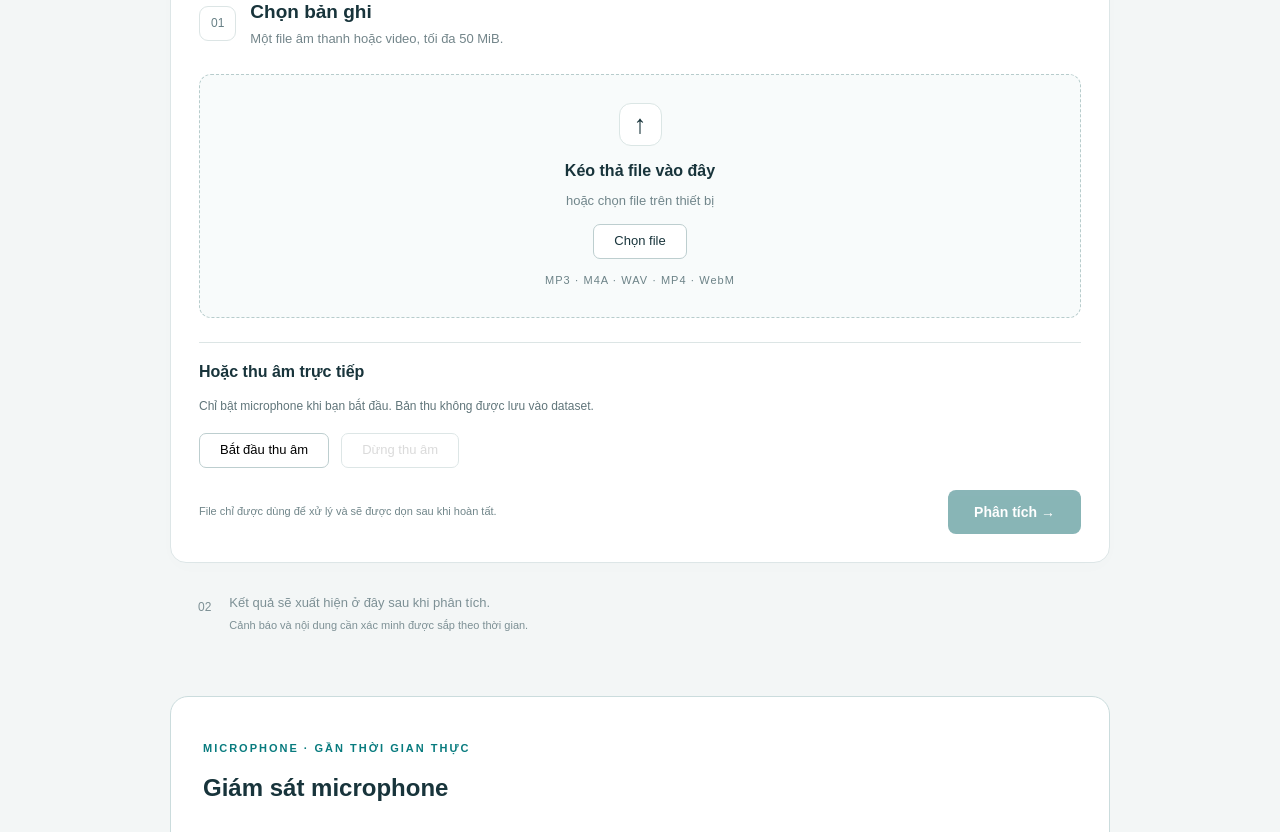
reports NotAllowedError
(page scrolled)
Click the button "Bắt đầu thu âm": x=264, y=450 [199,433,329,468]
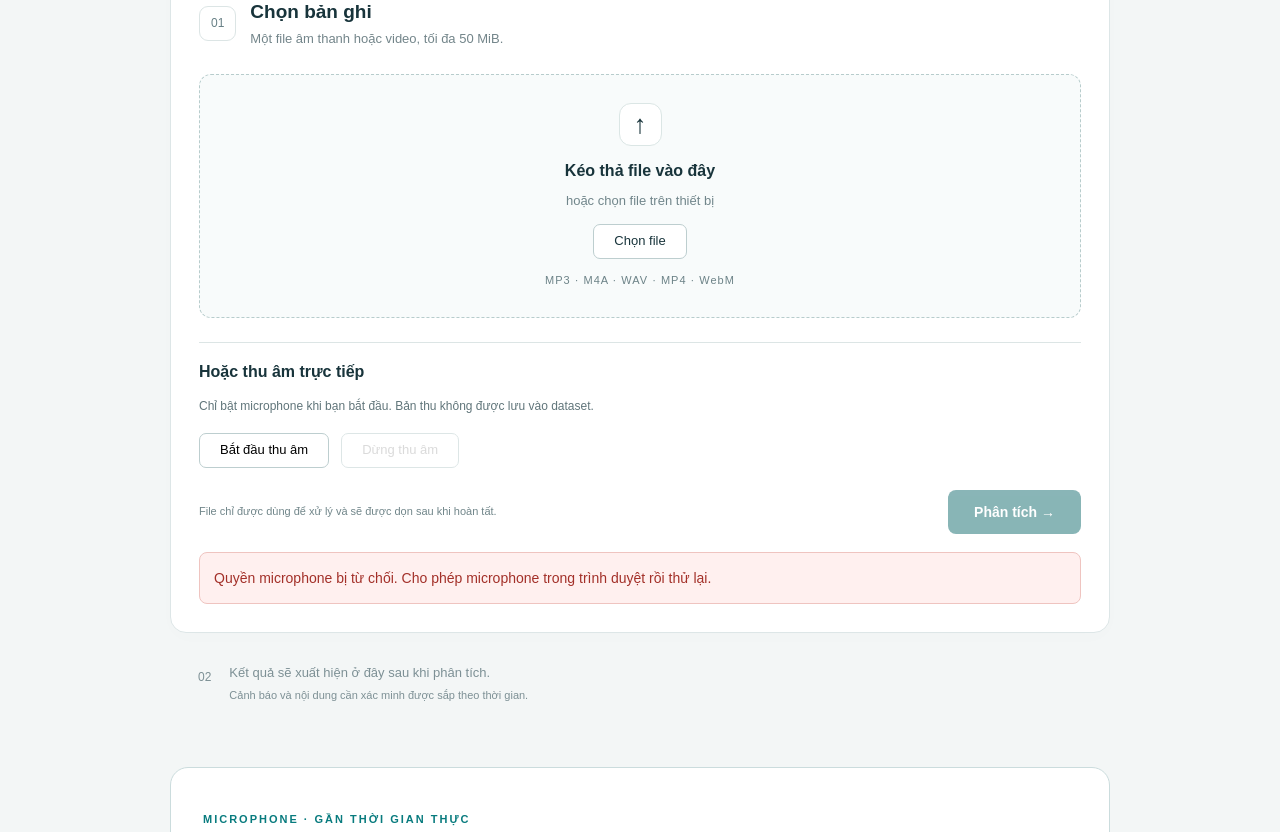
expect the text "bị từ chối" is shown: met, box [214,570,711,586]
